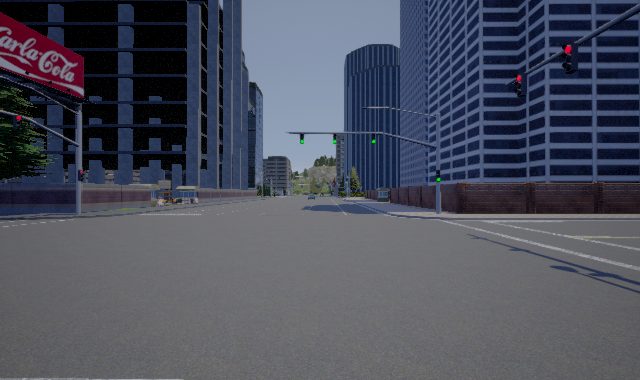traffic_light: (562, 43, 578, 74), (514, 73, 527, 97), (13, 115, 22, 130), (78, 170, 85, 181), (436, 170, 440, 182), (300, 133, 304, 144), (372, 133, 375, 144), (333, 133, 336, 144)
